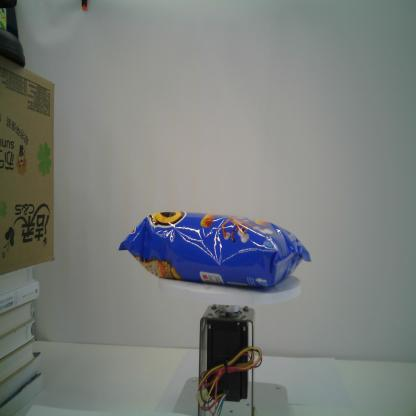Puffed Food: (118, 210, 312, 291)
